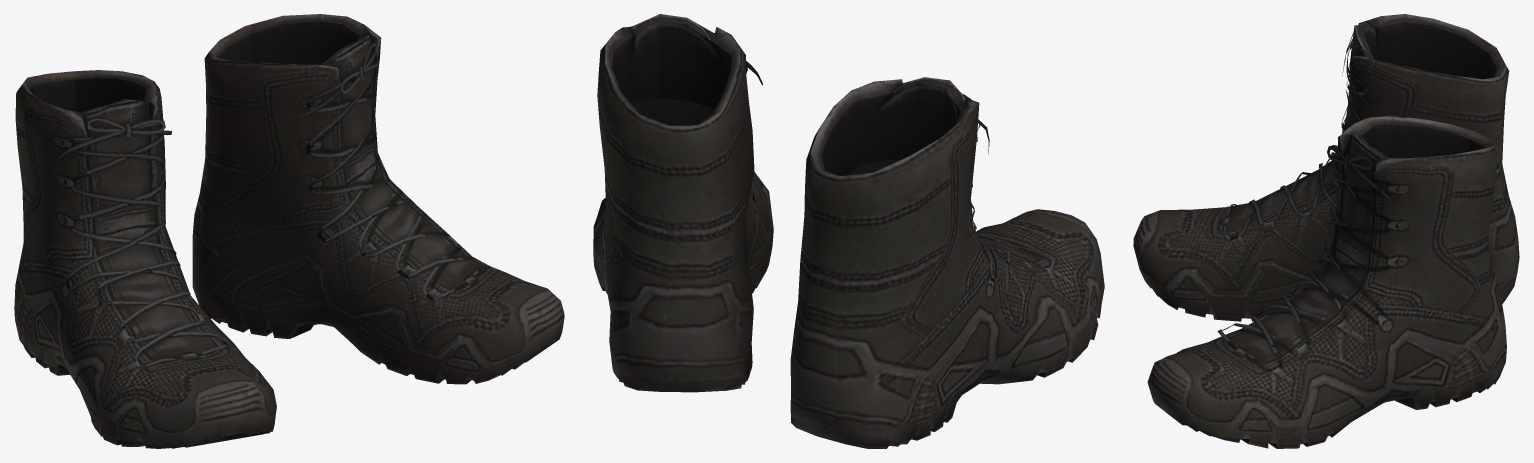
Rendered from Boots.FBX.
The picture shows the model from 3 angles, left to right: view 1: azimuth 30°, elevation 25°; view 2: azimuth 150°, elevation 25°; view 3: azimuth 270°, elevation 25°; orthographic projection. The views are drawn at different scales.
Parts seen in each view (by area): view 1: boots; view 2: boots; view 3: boots.
Part boxes in pixels (x1,y1,x2,y2): boots: [14, 14, 564, 448]; boots: [593, 14, 1104, 448]; boots: [1133, 14, 1519, 448].
Size of the model in its own units: 39.1 by 24.66 by 32.53.
1 material, 1 textured.
